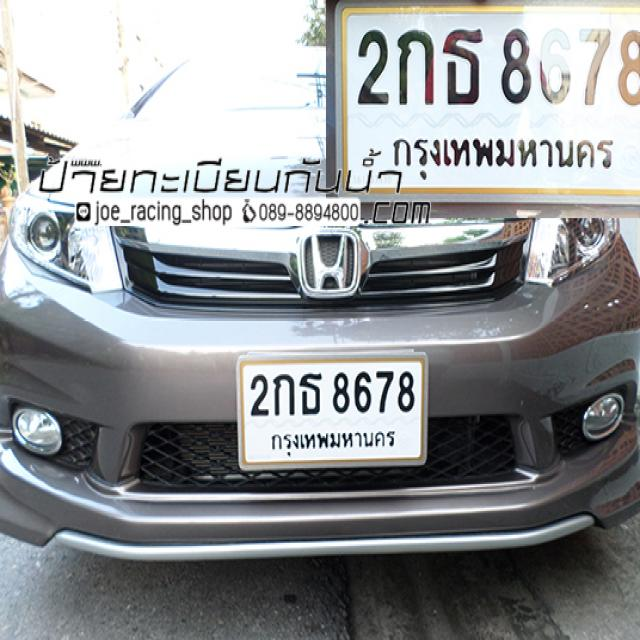license_plate: (236, 351, 431, 470)
